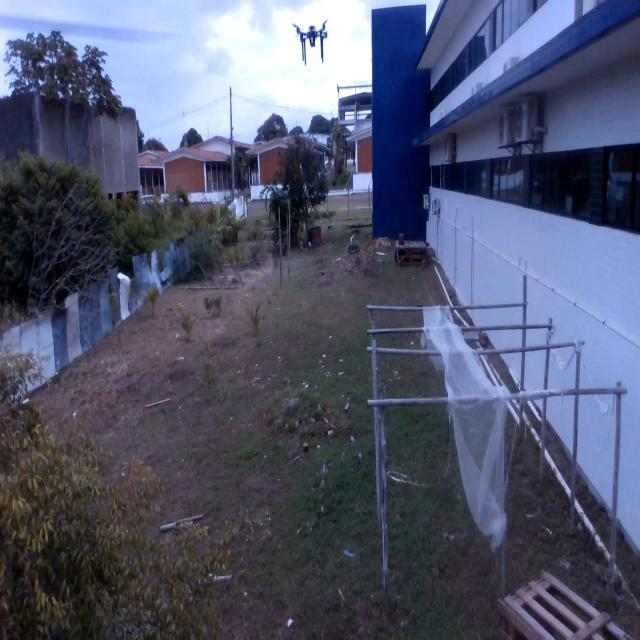-uav-: (286, 10, 341, 67)
